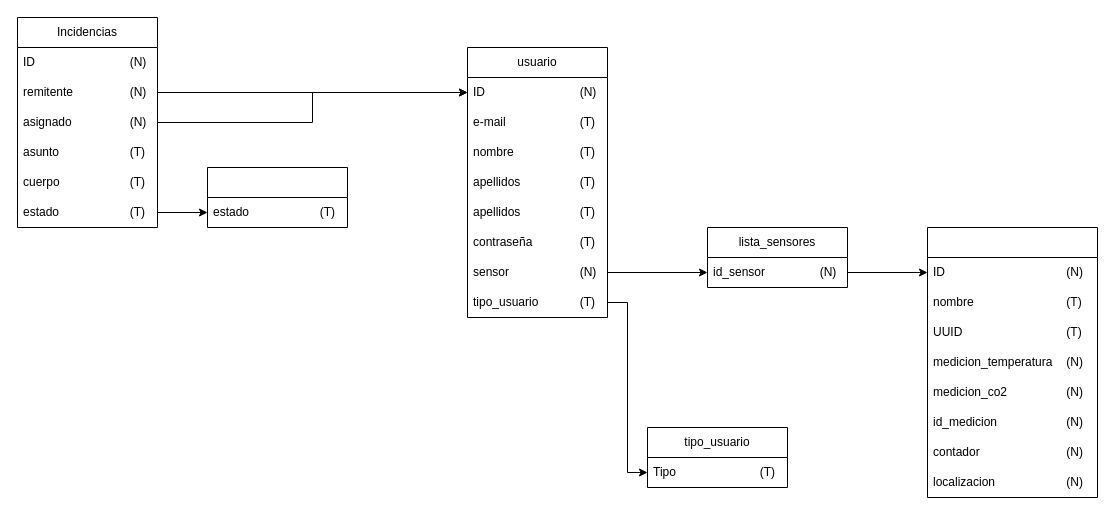
This 1115x515 diagram has some shape labels left out. Each missing label, with the box of its shape:
estados: (206, 166, 348, 228)
informacion_sensor: (926, 226, 1098, 498)
